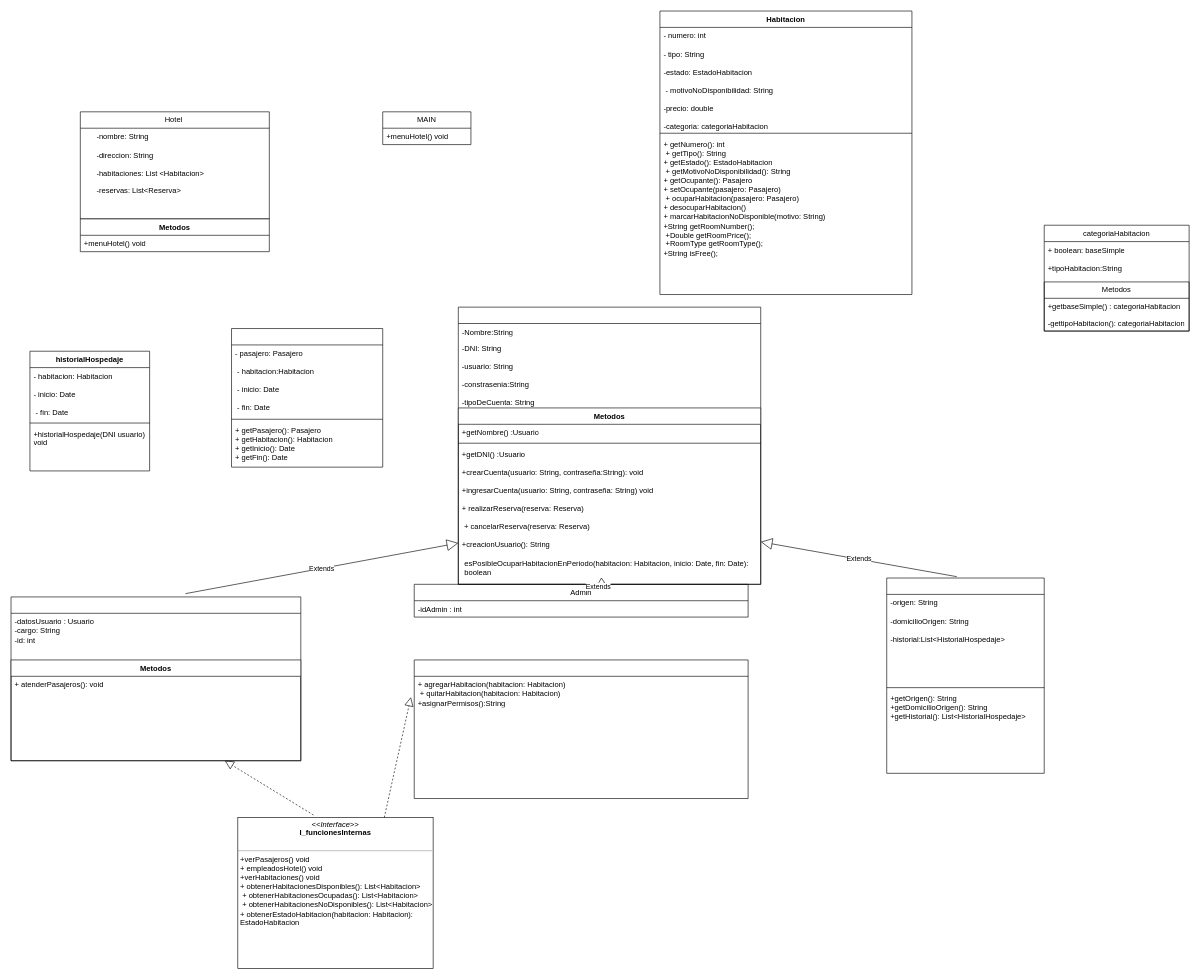
Image size: 1200x980. Some labels were removed from this diagram. Here are the shapes that lost their labels. From the top down, the box of each, then its label:
(231, 328, 383, 467): Reserva
(458, 306, 761, 584): Usuario (abstract)
(10, 596, 301, 761): Empleado
(886, 577, 1044, 773): Pasajero
(414, 659, 748, 799): Methods
